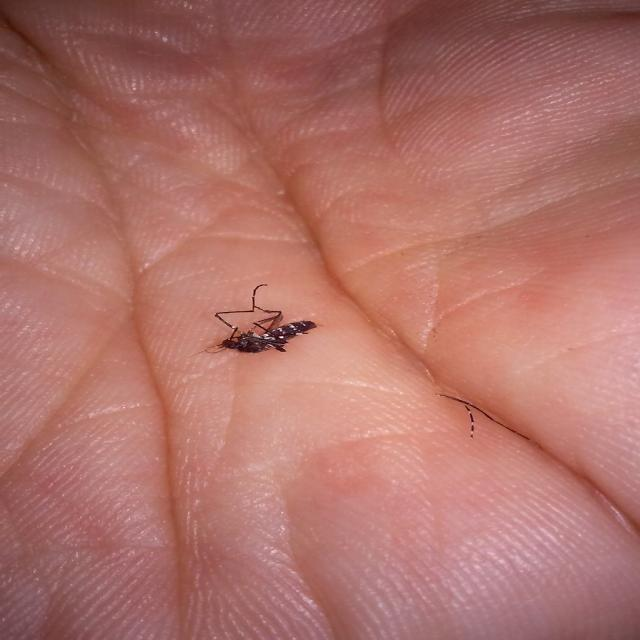albopictus: (191, 280, 317, 360)
